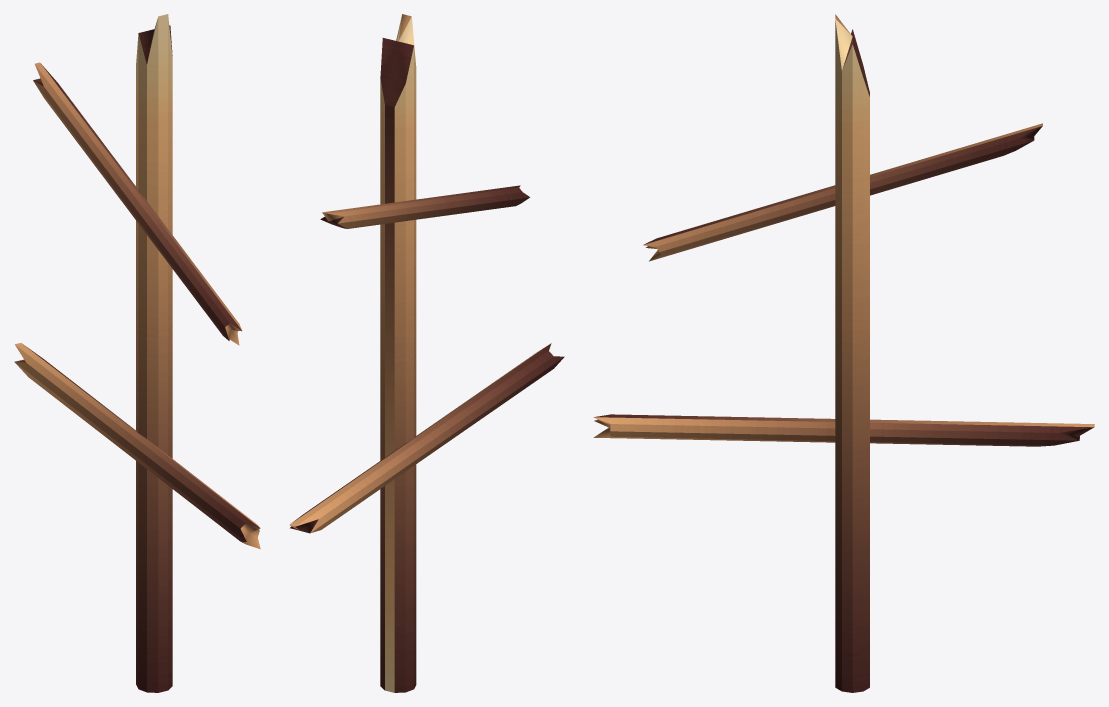
File: ShipMast.fbx
3 renders of one model, left to right at view 1: azimuth 30°, elevation 25°; view 2: azimuth 150°, elevation 25°; view 3: azimuth 270°, elevation 25°, orthographic.
Parts seen in each view (by area): view 1: pCylinder7; view 2: pCylinder7; view 3: pCylinder7.
Part boxes in pixels (<box>): pCylinder7: <box>14,14,260,692</box>; pCylinder7: <box>289,14,564,692</box>; pCylinder7: <box>593,14,1094,692</box>.
Size of the model in its own units: 0.4259 by 5.04 by 3.43.
Materials: 1 (1 with a texture image).
